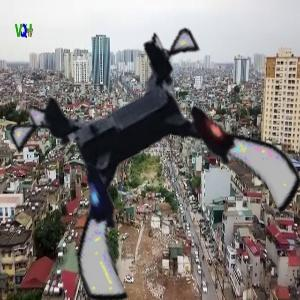drone: (33, 39, 283, 289)
